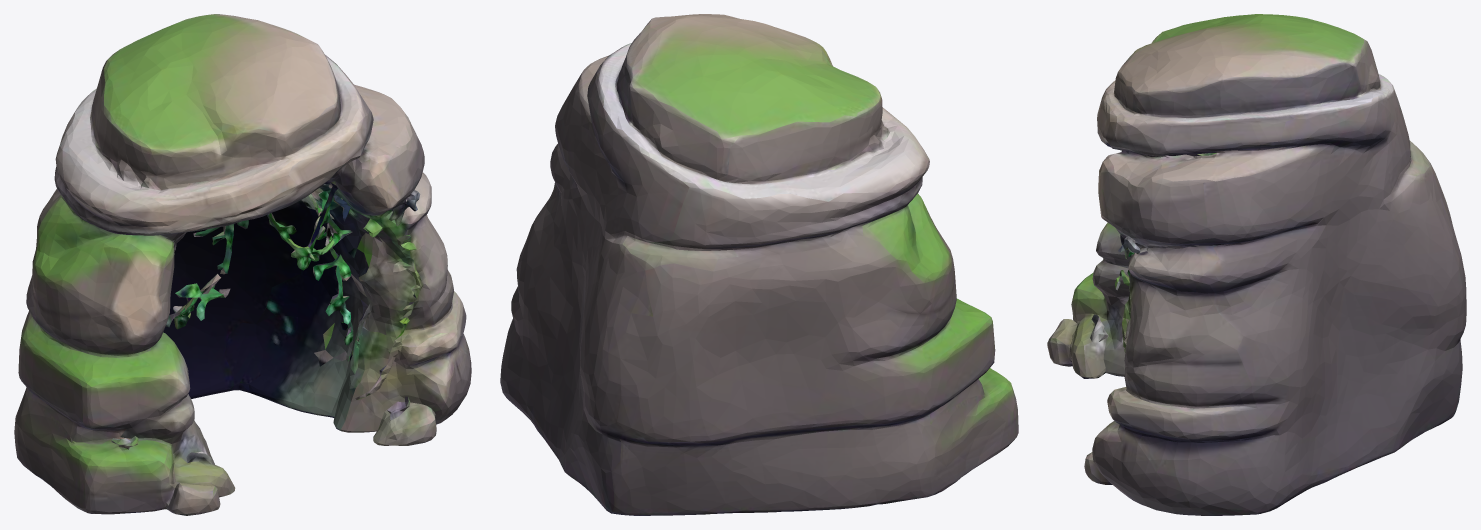
Rendered from cave_entrance.glb.
3 views of the same model, side by side, from view 1: azimuth 30°, elevation 25°; view 2: azimuth 150°, elevation 25°; view 3: azimuth 270°, elevation 25° (orthographic). The views are drawn at different scales.
Visible parts, largest first — view 1: tmpgn7flnr1.ply; view 2: tmpgn7flnr1.ply; view 3: tmpgn7flnr1.ply.
Part boxes in pixels (x1=…): tmpgn7flnr1.ply: x1=14, y1=14, x2=471, y2=515; tmpgn7flnr1.ply: x1=500, y1=14, x2=1018, y2=515; tmpgn7flnr1.ply: x1=1047, y1=14, x2=1466, y2=515.
Size of the model in its own units: 1.99 by 1.68 by 1.65.
1 material, 1 textured.
